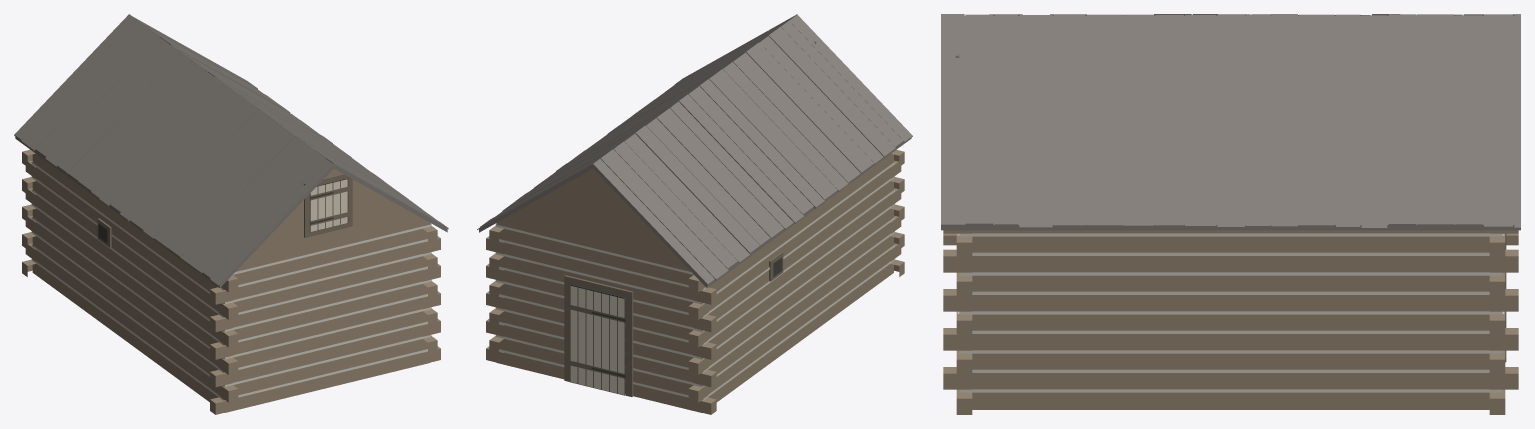
The model's file is recon_1835_blk_washington_lasalle_a1_08__inferred_1835.glb.
The picture shows the model from 3 angles, left to right: view 1: azimuth 30°, elevation 25°; view 2: azimuth 150°, elevation 25°; view 3: azimuth 270°, elevation 25°; orthographic projection. The views are drawn at different scales.
Parts seen in each view (by area): view 1: recon_1835_blk_washington_lasalle_a1_08__inferred_1835; view 2: recon_1835_blk_washington_lasalle_a1_08__inferred_1835; view 3: recon_1835_blk_washington_lasalle_a1_08__inferred_1835.
Boxes of the visible parts, left/top/right/bottom form: recon_1835_blk_washington_lasalle_a1_08__inferred_1835: left=14, top=14, right=448, bottom=414; recon_1835_blk_washington_lasalle_a1_08__inferred_1835: left=477, top=14, right=912, bottom=414; recon_1835_blk_washington_lasalle_a1_08__inferred_1835: left=941, top=14, right=1520, bottom=414.
Bounding box in the file's own units: 5.71 × 5.39 × 8.71.
